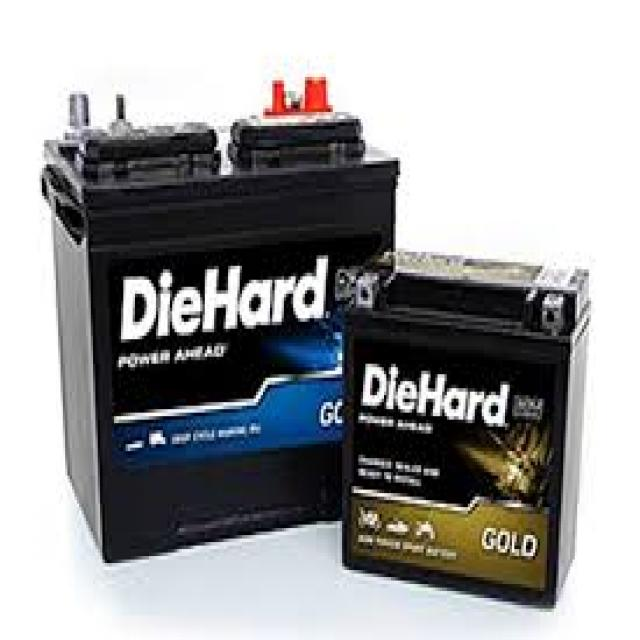non-organic waste: (36, 87, 399, 569), (336, 242, 588, 598)
